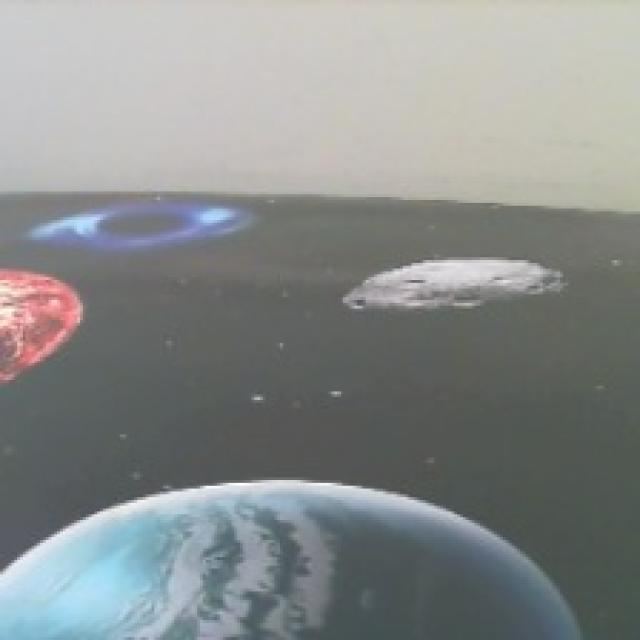Asteroid: (341, 254, 570, 317)
Black Hole: (32, 198, 255, 250)
Earth: (0, 480, 589, 637)
Sun: (0, 268, 83, 385)
